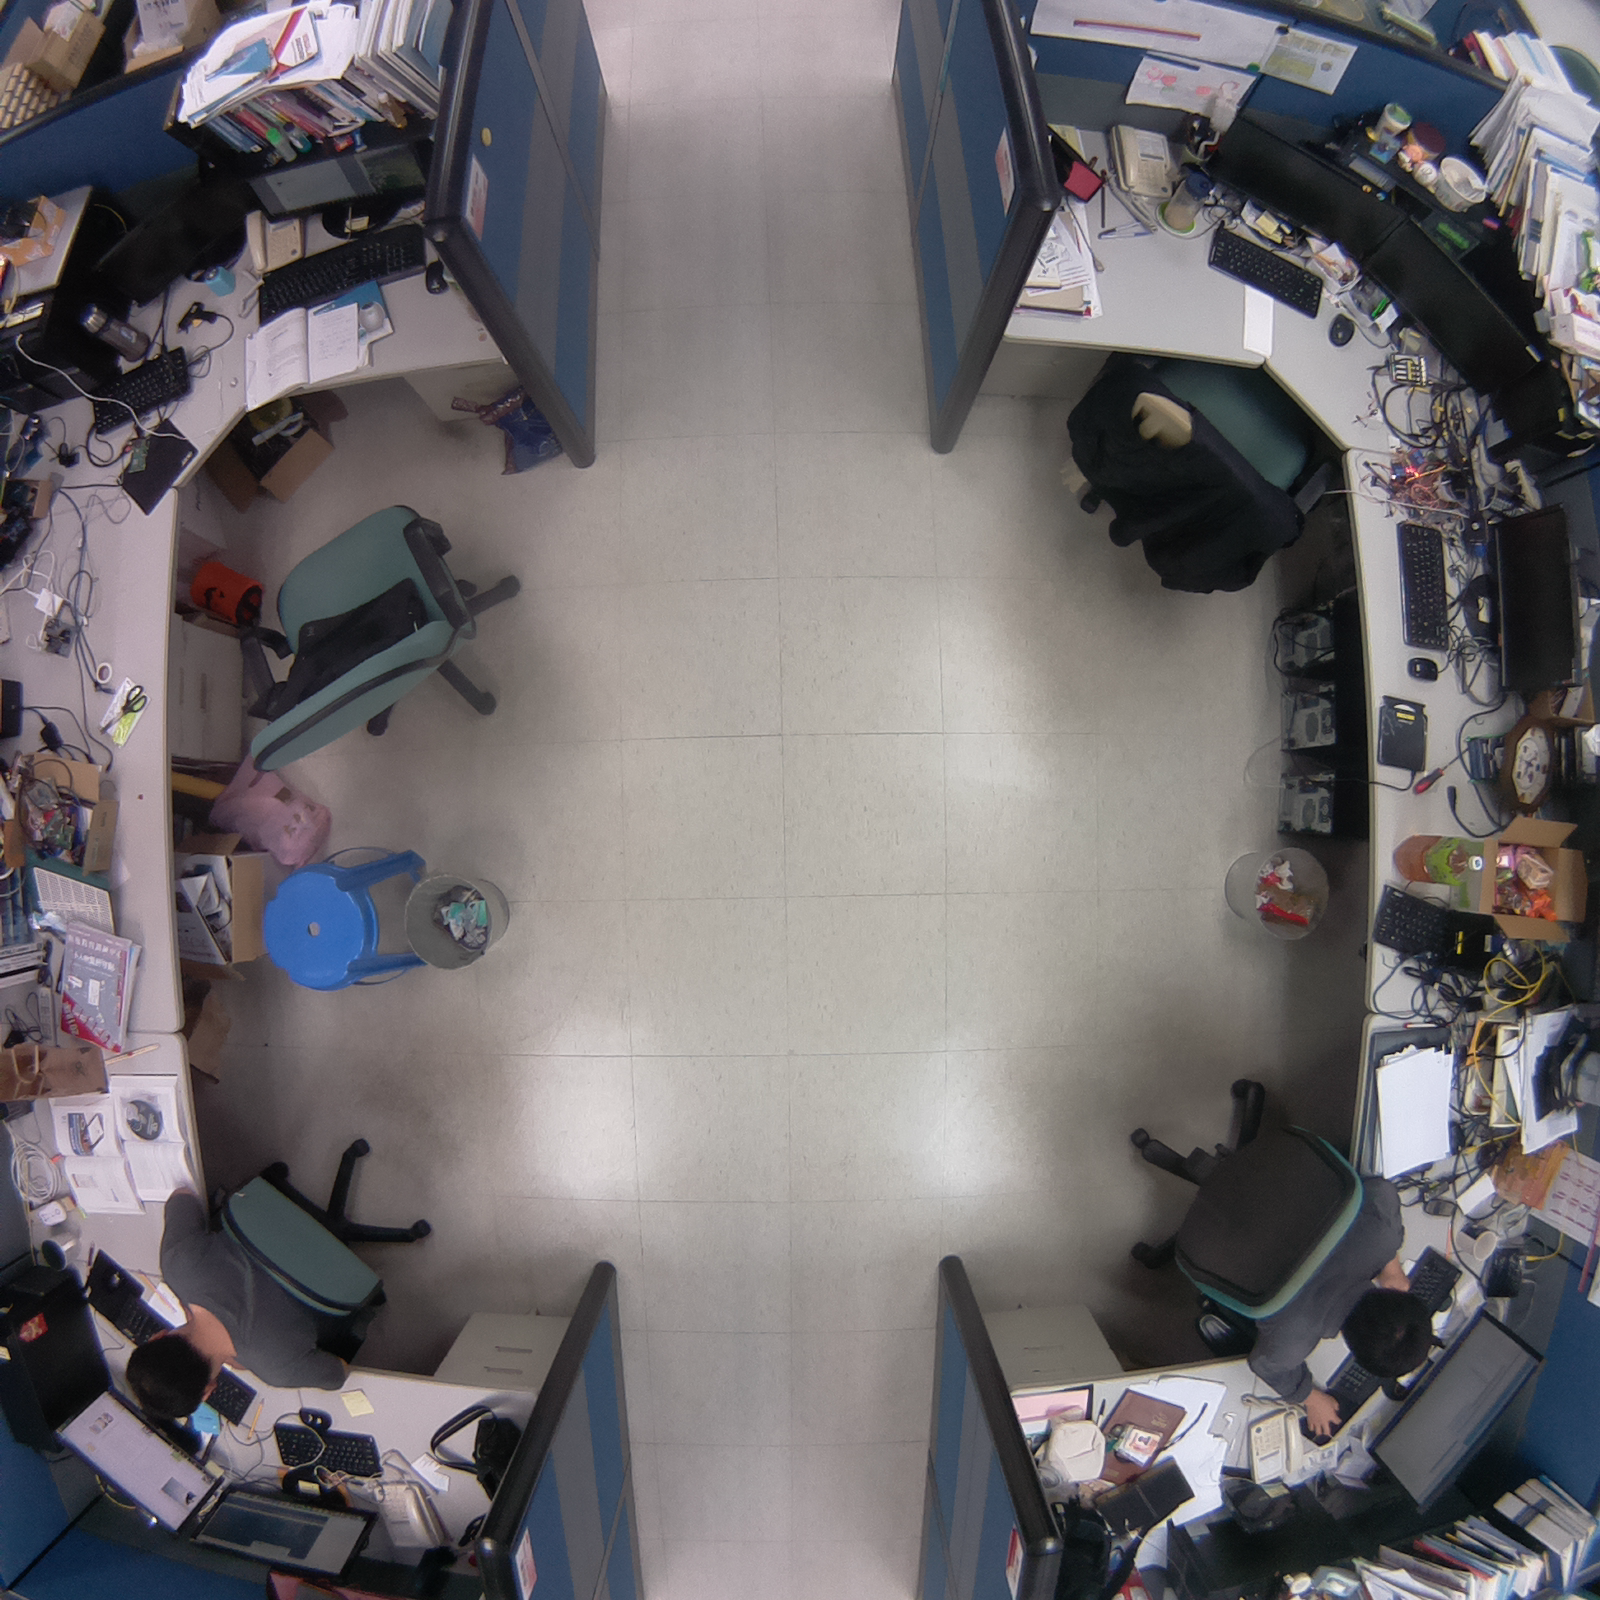chair: (214, 473, 537, 788), (1047, 329, 1347, 606)
head: (114, 1311, 222, 1424), (1341, 1286, 1441, 1380)
sitting: (1101, 1058, 1441, 1443), (108, 1114, 450, 1426)
